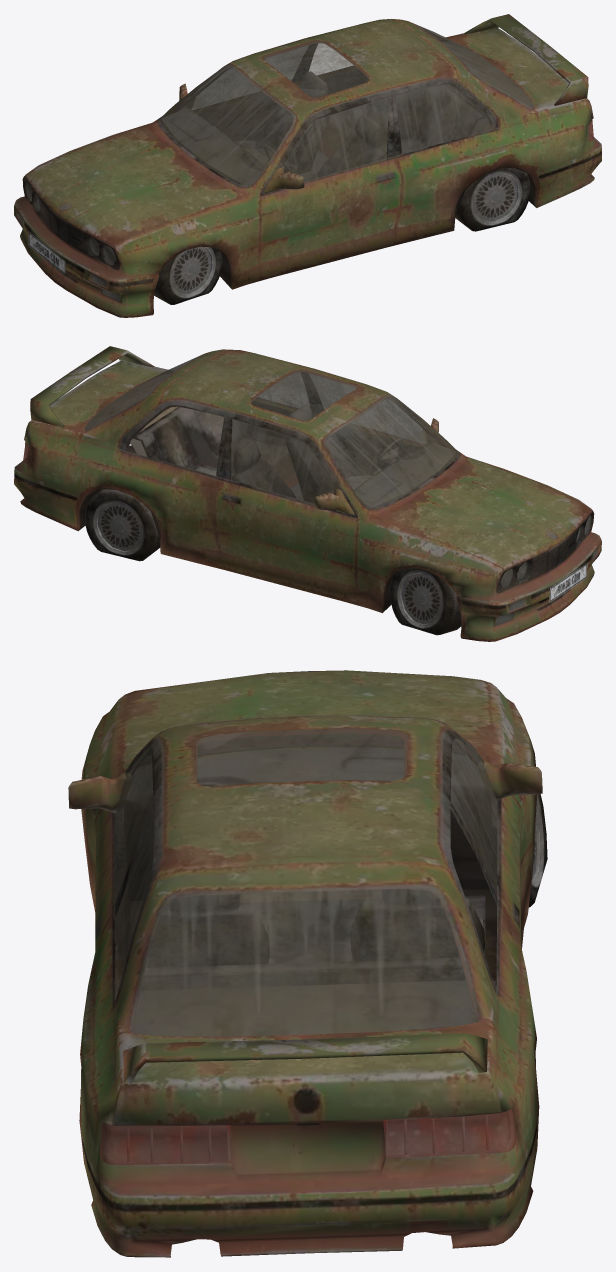
Rendered from rust_car.glb.
The picture shows the model from 3 angles, top to bottom: view 1: azimuth 30°, elevation 25°; view 2: azimuth 150°, elevation 25°; view 3: azimuth 270°, elevation 25°; orthographic projection. The views are drawn at different scales.
Parts seen in each view (by area): view 1: rust_car; view 2: rust_car; view 3: rust_car.
Boxes of the visible parts, x1,y1,x2,y2 form: rust_car: (14,14,601,317); rust_car: (14,346,601,641); rust_car: (68,670,547,1257).
Bounding box in the file's own units: 4.4 × 1.32 × 1.79.
Materials: 1 (1 with a texture image).
